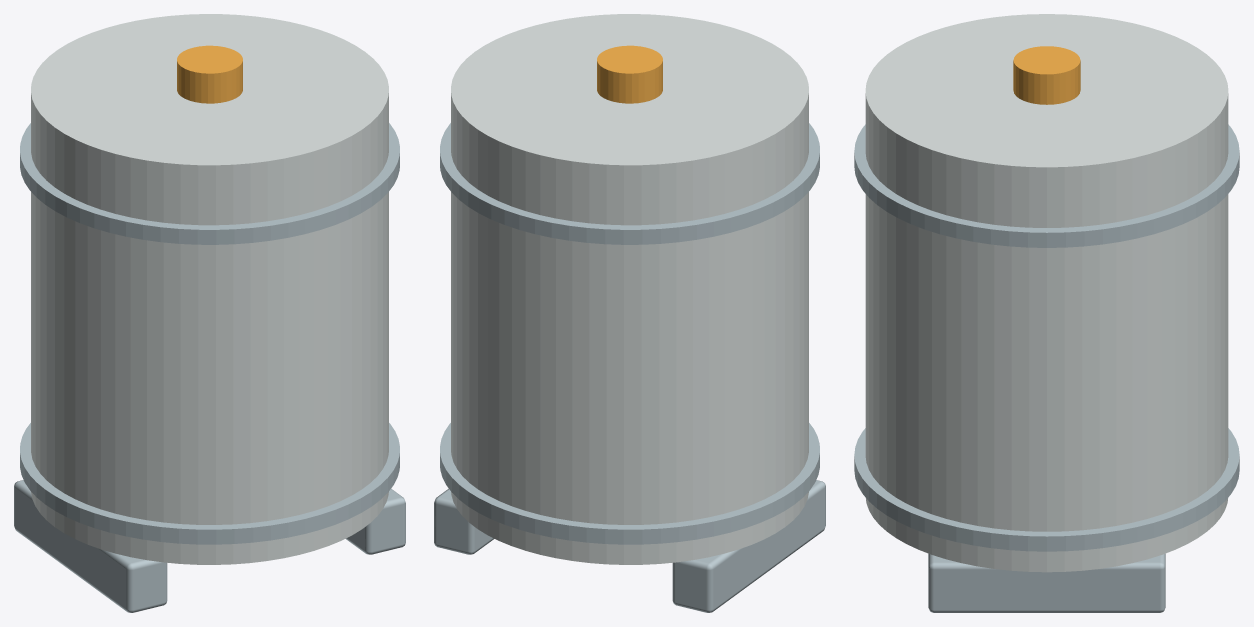
Rendered from data-centre-infiltration-kit-data-centre-infiltration--151fe9a8__29239.glb.
3 views of the same model, side by side, from view 1: azimuth 30°, elevation 25°; view 2: azimuth 150°, elevation 25°; view 3: azimuth 270°, elevation 25° (orthographic).
Parts seen in each view (by area): view 1: data-centre-infiltration-kit-fuel-tank; view 2: data-centre-infiltration-kit-fuel-tank; view 3: data-centre-infiltration-kit-fuel-tank.
Boxes of the visible parts, x1,y1,x2,y2 form: data-centre-infiltration-kit-fuel-tank: (14,14,405,612); data-centre-infiltration-kit-fuel-tank: (434,14,825,612); data-centre-infiltration-kit-fuel-tank: (854,14,1239,612).
Bounding box in the file's own units: 1.38 × 1.92 × 1.38.
